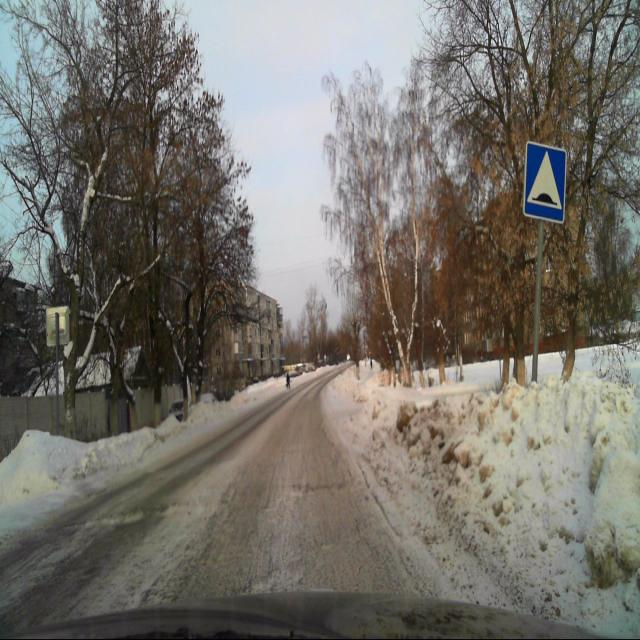object: (532, 221, 542, 383)
road sign: (523, 140, 568, 223)
